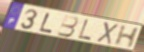3: (20, 9, 39, 31)
B: (56, 14, 79, 38)
H: (113, 25, 141, 49)
L: (77, 19, 93, 42), (38, 12, 54, 34)
X: (95, 21, 120, 46)
